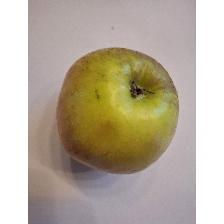Apfel: (54, 42, 182, 176)
